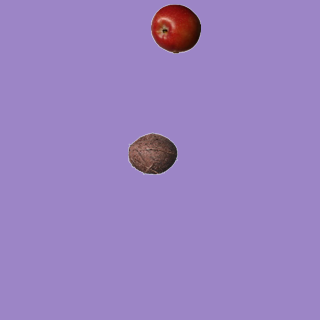Apple Braeburn: (150, 3, 200, 53)
Cocos: (127, 128, 177, 178)
